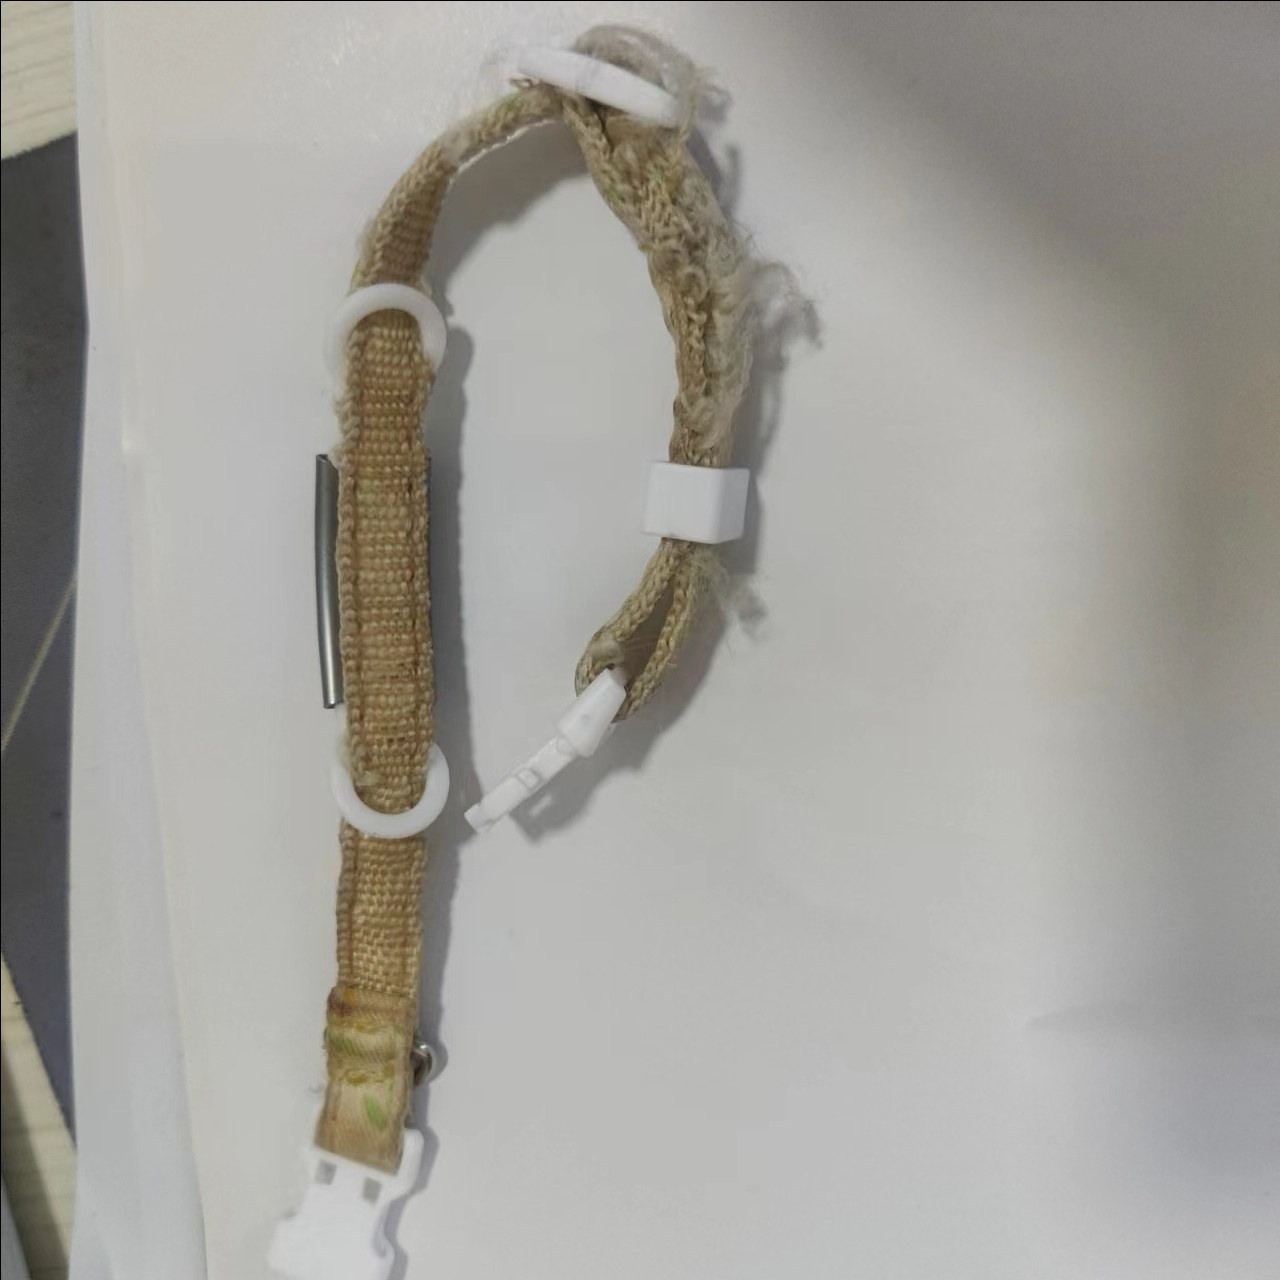9/可回收垃圾/绳子: (266, 25, 806, 1280)
